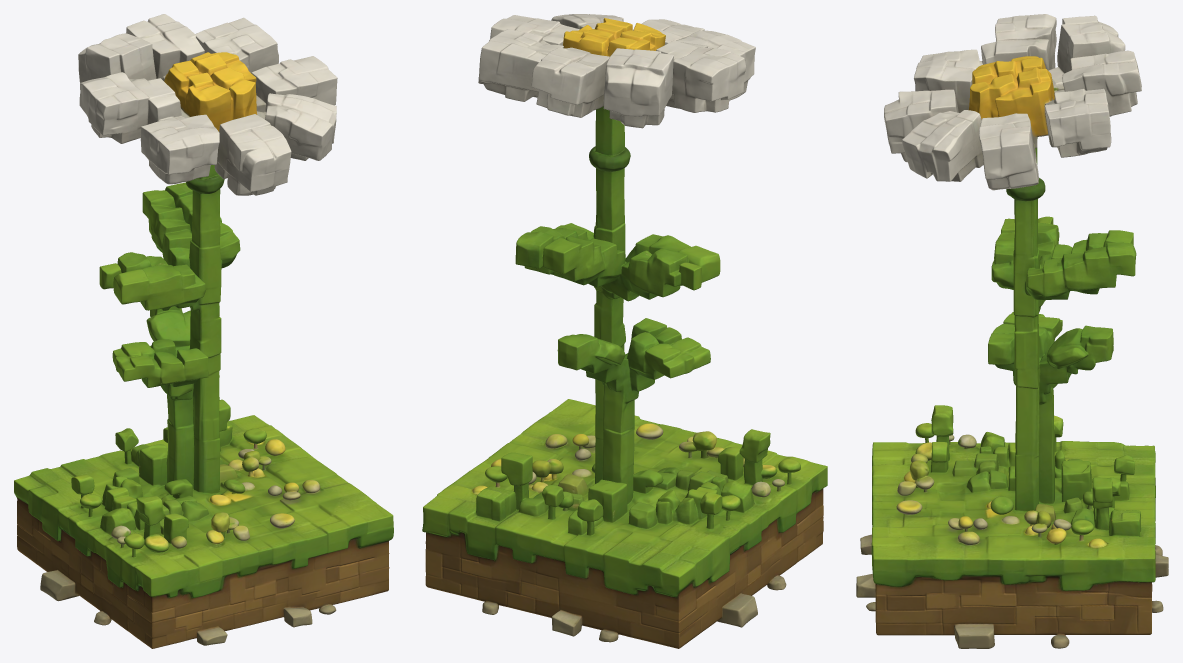
File: flower.glb
3 views of the same model, side by side, from view 1: azimuth 30°, elevation 25°; view 2: azimuth 150°, elevation 25°; view 3: azimuth 270°, elevation 25° (orthographic). The views are drawn at different scales.
Parts seen in each view (by area): view 1: tripo_node_a62befa4-e7a7-4a56-b2b7-3256a104673f; view 2: tripo_node_a62befa4-e7a7-4a56-b2b7-3256a104673f; view 3: tripo_node_a62befa4-e7a7-4a56-b2b7-3256a104673f.
Boxes of the visible parts, <box> form: tripo_node_a62befa4-e7a7-4a56-b2b7-3256a104673f: <box>14,14,393,648</box>; tripo_node_a62befa4-e7a7-4a56-b2b7-3256a104673f: <box>422,14,827,648</box>; tripo_node_a62befa4-e7a7-4a56-b2b7-3256a104673f: <box>856,14,1168,648</box>.
Size of the model in its own units: 0.552 by 1 by 0.5345.
1 material, 1 textured.
